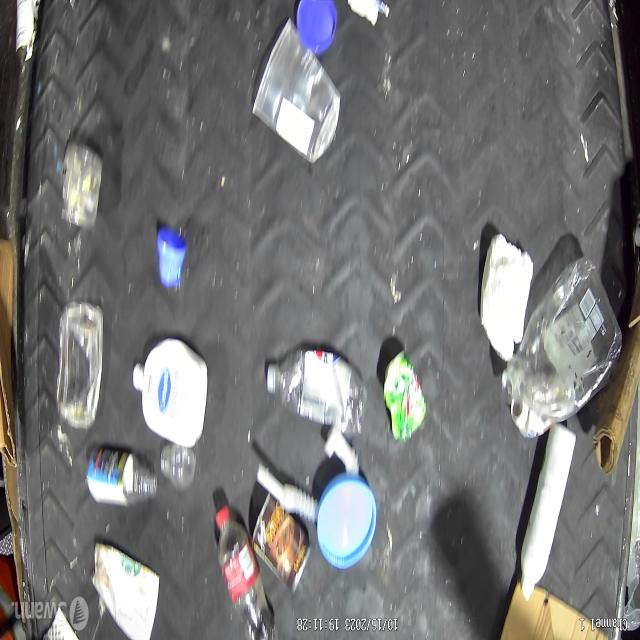can: (251, 489, 312, 593), (383, 348, 427, 443), (12, 0, 40, 66), (510, 398, 548, 441)
non_white_jug: (500, 254, 622, 422)
plastic_bottle: (265, 348, 368, 436), (212, 501, 277, 640), (85, 448, 159, 510)
